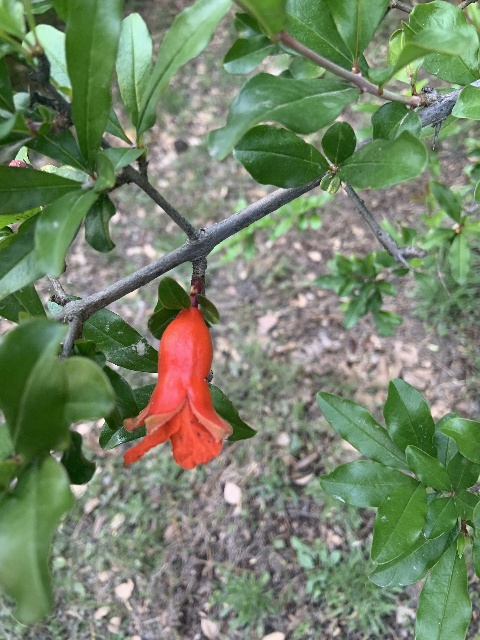flower: (123, 305, 232, 470)
